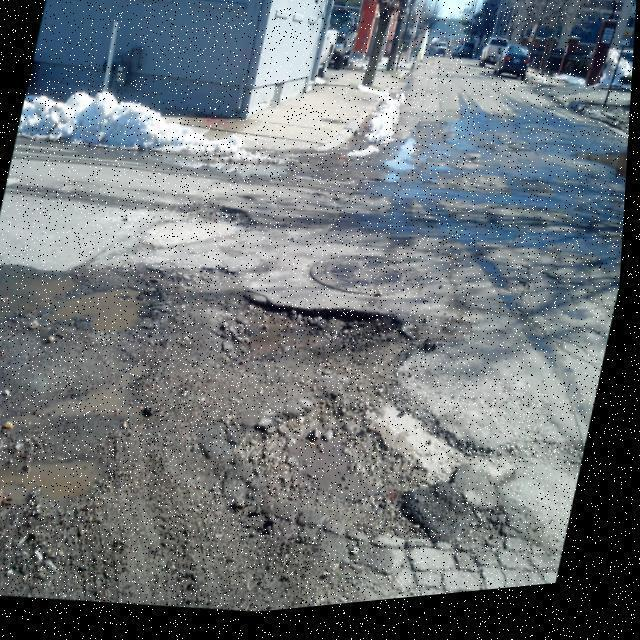Pothole: (0, 261, 516, 611)
